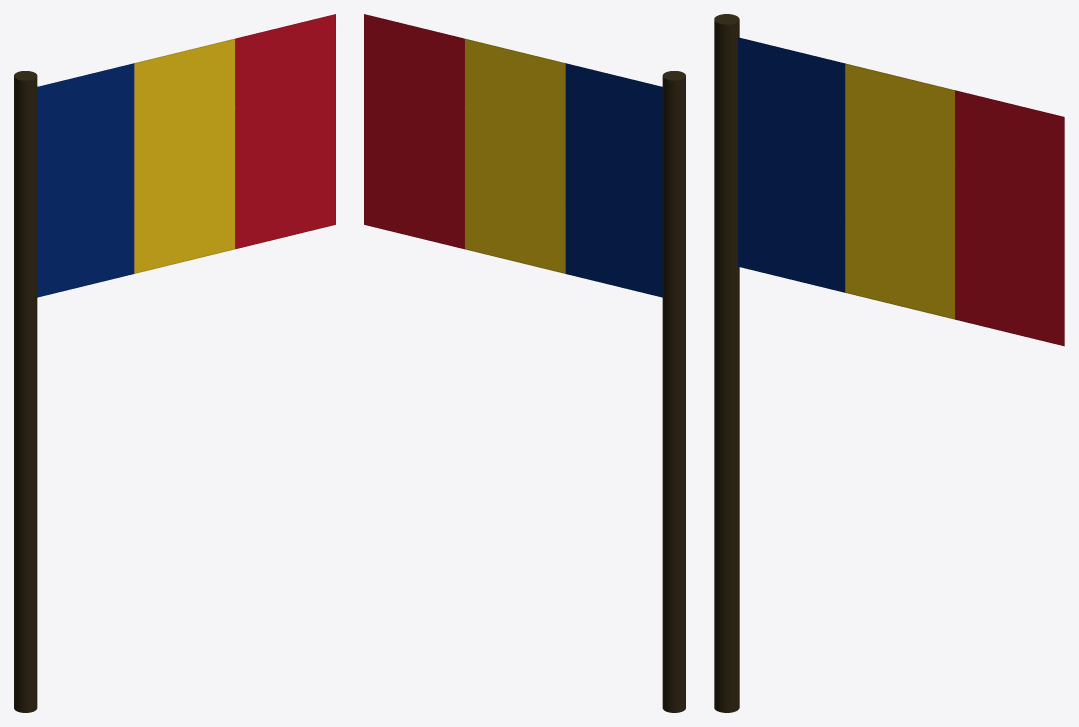
File: Romania.glb
The picture shows the model from 3 angles, left to right: view 1: azimuth 30°, elevation 25°; view 2: azimuth 150°, elevation 25°; view 3: azimuth 330°, elevation 25°; orthographic projection. The views are drawn at different scales.
Visible parts, largest first — view 1: Plane, Cylinder; view 2: Plane, Cylinder; view 3: Plane, Cylinder.
Boxes of the visible parts, x1,y1,x2,y2 form: Plane: (37,14,335,297); Cylinder: (14,71,37,712); Plane: (364,14,662,297); Cylinder: (662,71,685,712); Plane: (738,37,1064,346); Cylinder: (714,14,739,712).
Bounding box in the file's own units: 3.18 × 6 × 0.2.
2 materials, 1 textured.
